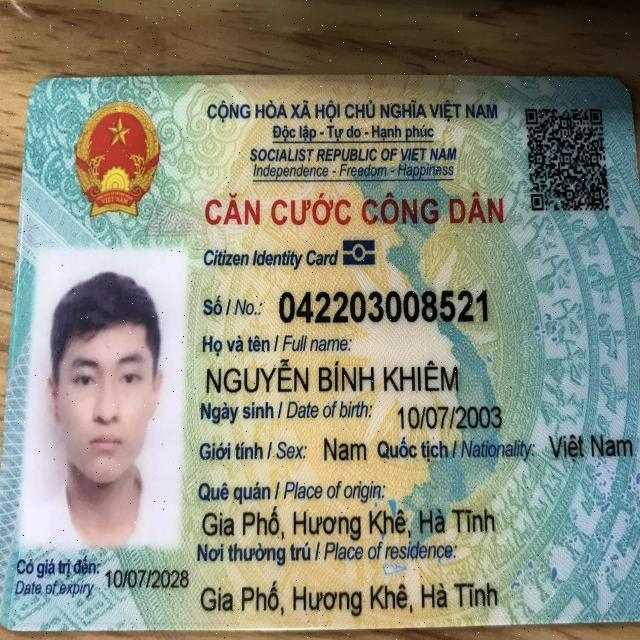current_place: (198, 576, 500, 620)
dob: (396, 403, 504, 433)
expire_date: (102, 566, 190, 591)
gender: (320, 435, 368, 464)
id: (275, 285, 491, 328)
name: (204, 356, 461, 395)
nationality: (546, 432, 635, 464)
origin_place: (199, 503, 497, 543)
qr: (524, 100, 614, 218)
